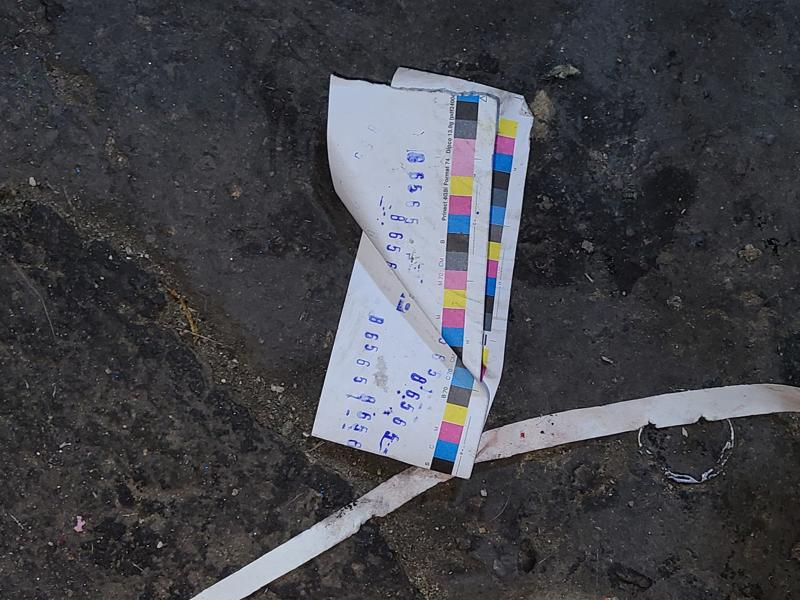papel: (311, 69, 535, 482)
